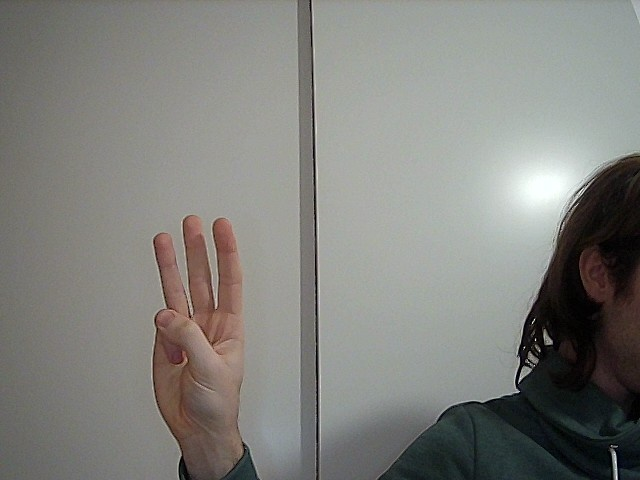w: (136, 207, 264, 434)
